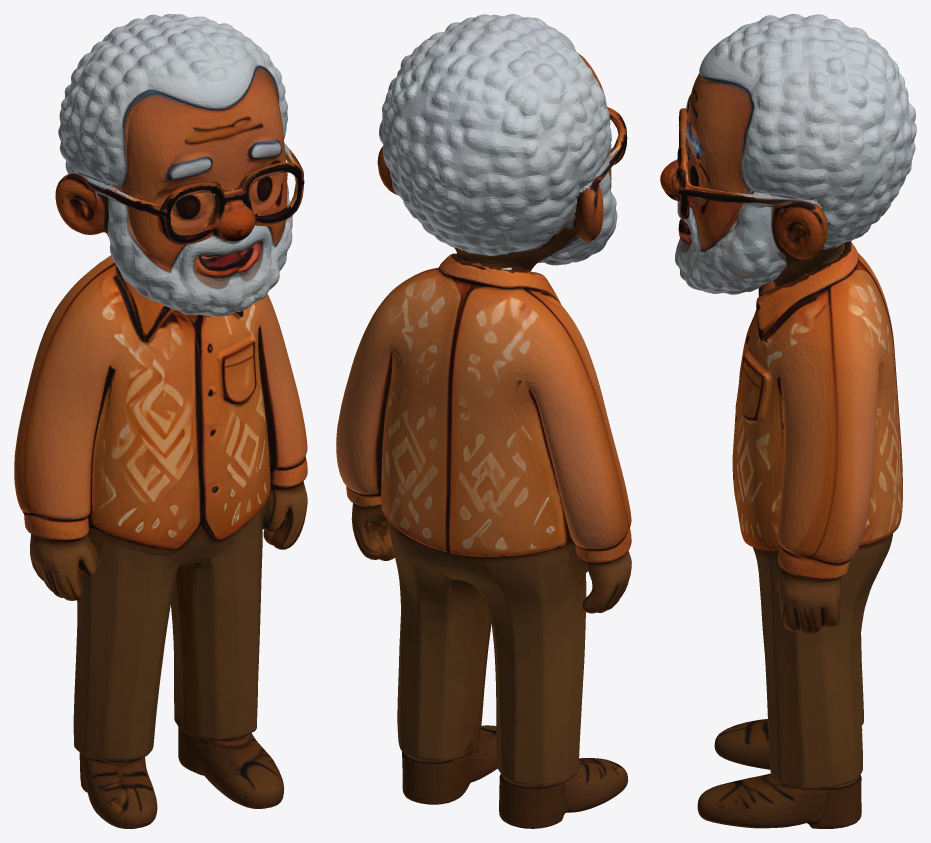
The model's file is newMan4.glb.
3 views of the same model, side by side, from view 1: azimuth 30°, elevation 25°; view 2: azimuth 150°, elevation 25°; view 3: azimuth 270°, elevation 25° (orthographic).
Visible parts, largest first — view 1: 151c3cb2-4e47-49af-b0d1-348935e6403d_texturing.obj; view 2: 151c3cb2-4e47-49af-b0d1-348935e6403d_texturing.obj; view 3: 151c3cb2-4e47-49af-b0d1-348935e6403d_texturing.obj.
Boxes of the visible parts, x1,y1,x2,y2 form: 151c3cb2-4e47-49af-b0d1-348935e6403d_texturing.obj: (14,14,307,828); 151c3cb2-4e47-49af-b0d1-348935e6403d_texturing.obj: (336,14,631,828); 151c3cb2-4e47-49af-b0d1-348935e6403d_texturing.obj: (660,14,916,828).
Bounding box in the file's own units: 0.7641 × 1.99 × 0.6021.
Materials: 1 (1 with a texture image).
